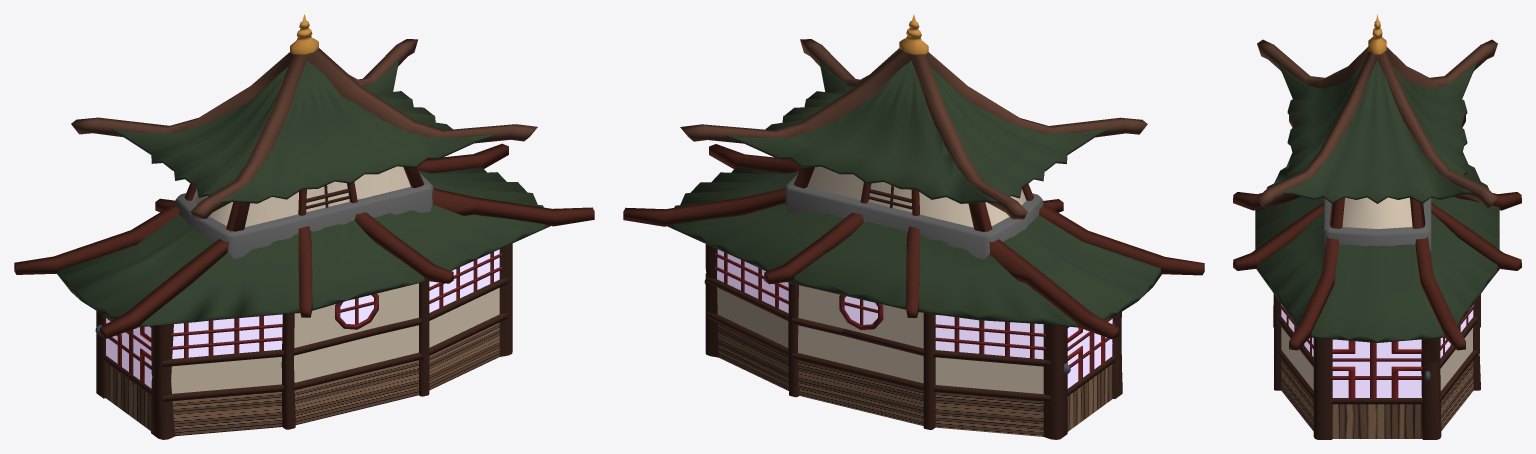
File: Building_10 Asia.fbx
3 renders of one model, left to right at view 1: azimuth 30°, elevation 25°; view 2: azimuth 150°, elevation 25°; view 3: azimuth 270°, elevation 25°, orthographic. The views are drawn at different scales.
Parts seen in each view (by area): view 1: Building_10; view 2: Building_10; view 3: Building_10.
Part boxes in pixels (x1=…): Building_10: x1=14, y1=14, x2=594, y2=439; Building_10: x1=623, y1=15, x2=1204, y2=439; Building_10: x1=1233, y1=14, x2=1521, y2=439.
Bounding box in the file's own units: 793 × 552 × 421.
